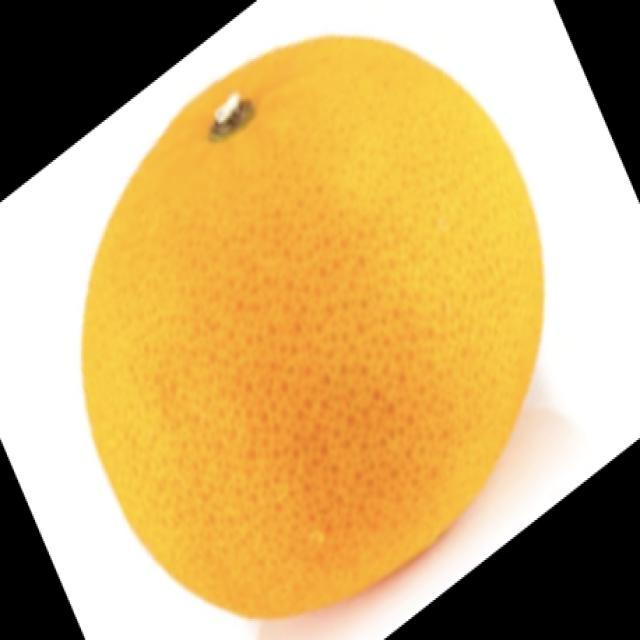matang: (84, 38, 543, 616)
